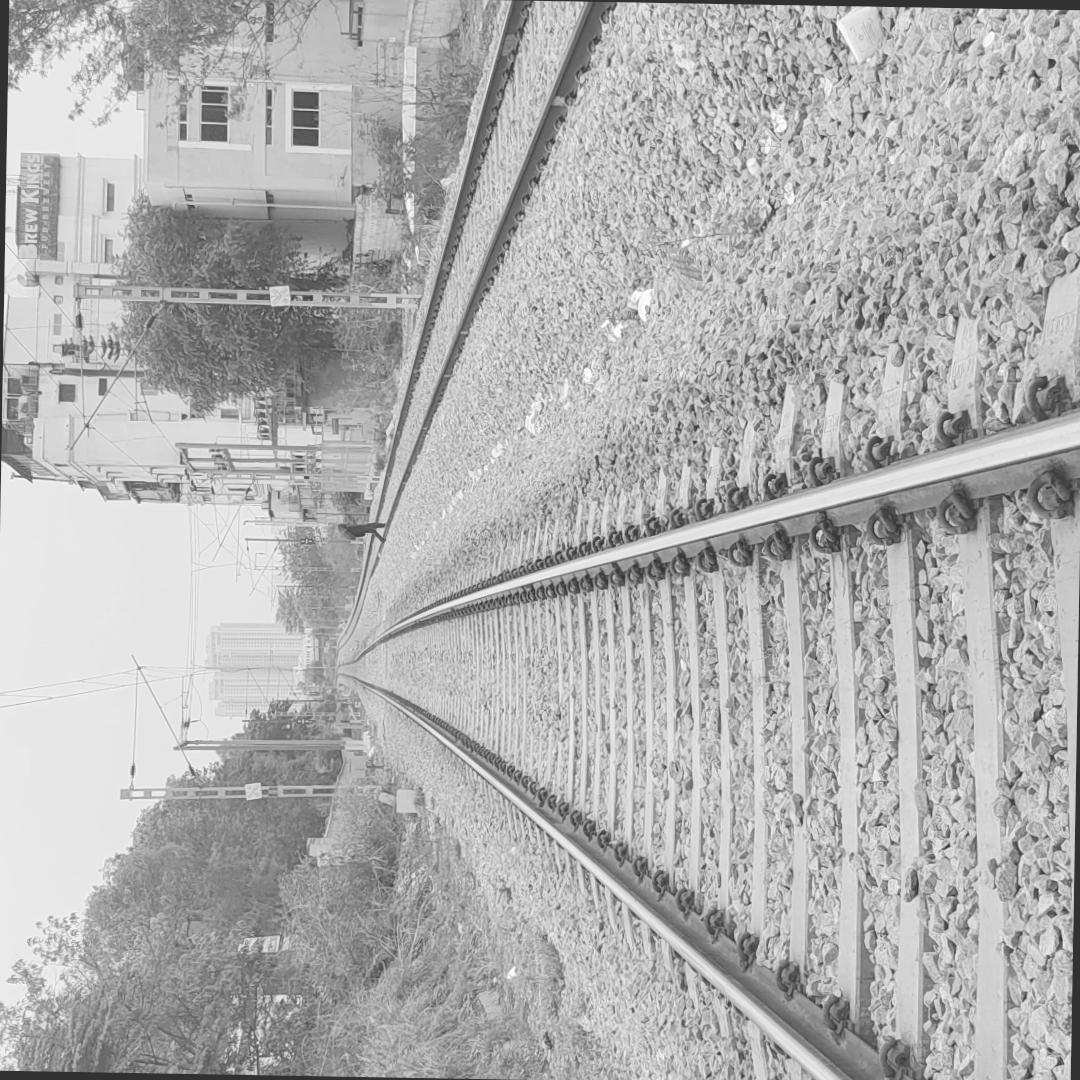standing: (333, 512, 399, 544)
track: (328, 316, 1080, 1080)
